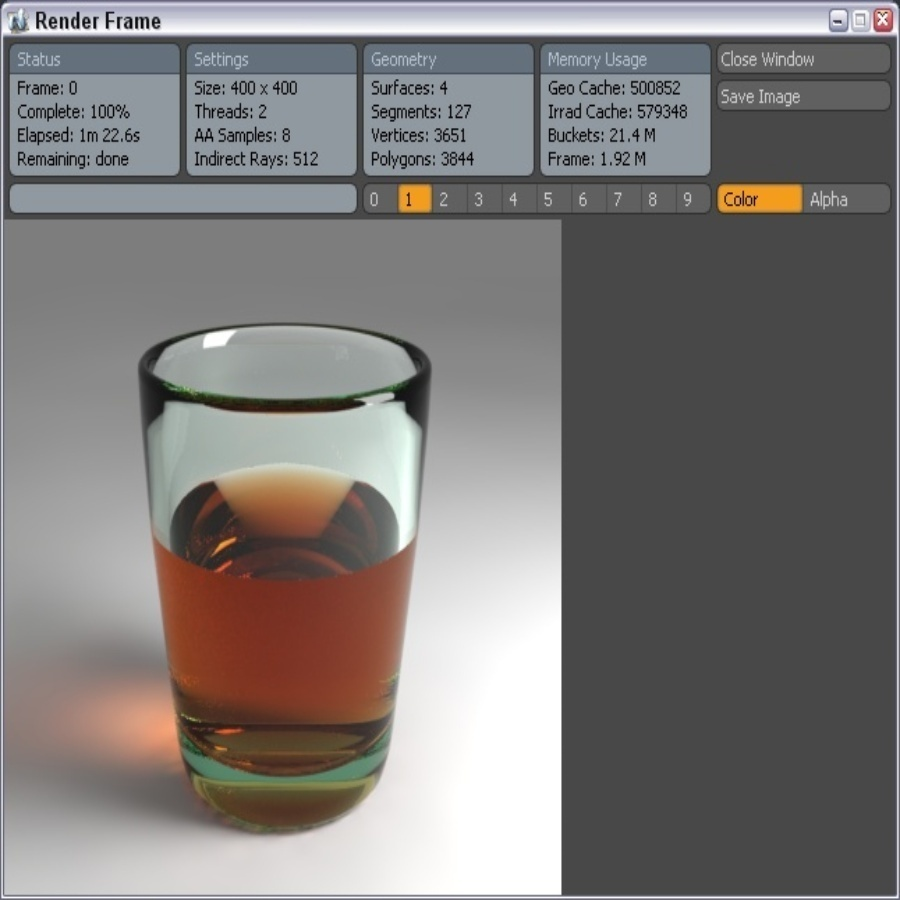whiskey: (150, 320, 431, 835)
